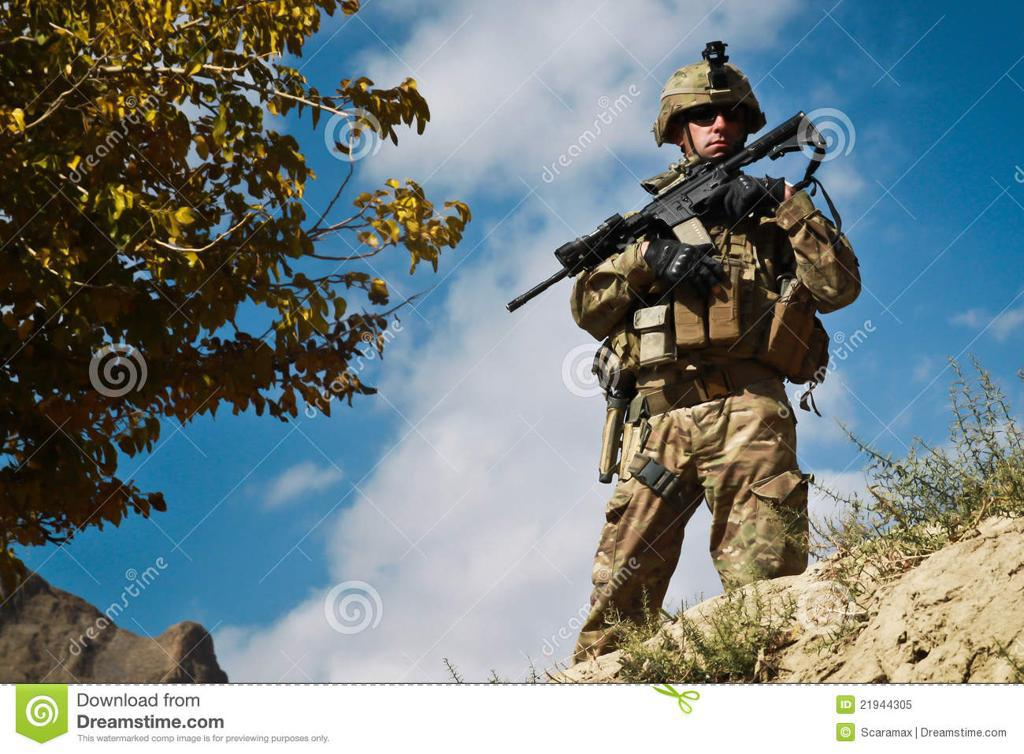face: (689, 81, 747, 161)
